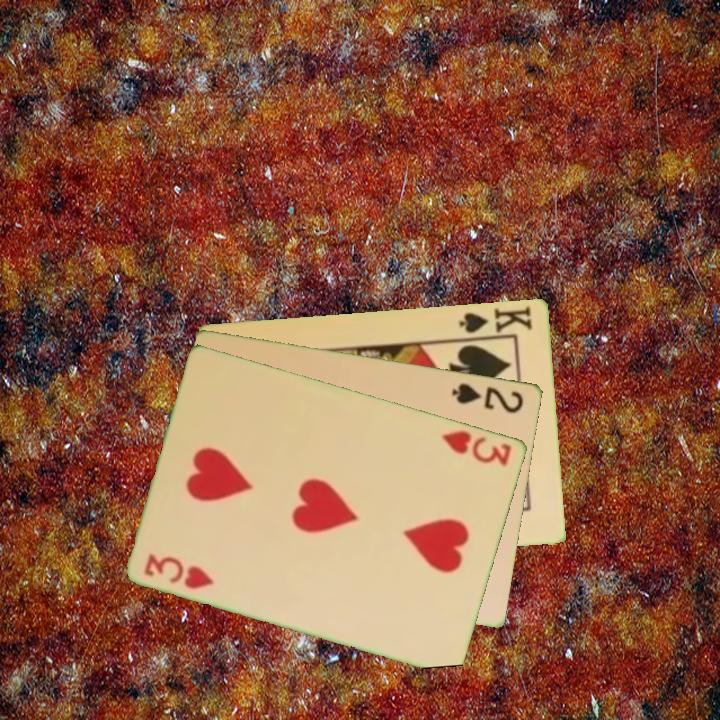2s: (448, 379, 527, 416)
3h: (438, 426, 515, 469), (141, 550, 218, 592)
Ks: (456, 302, 536, 342)
